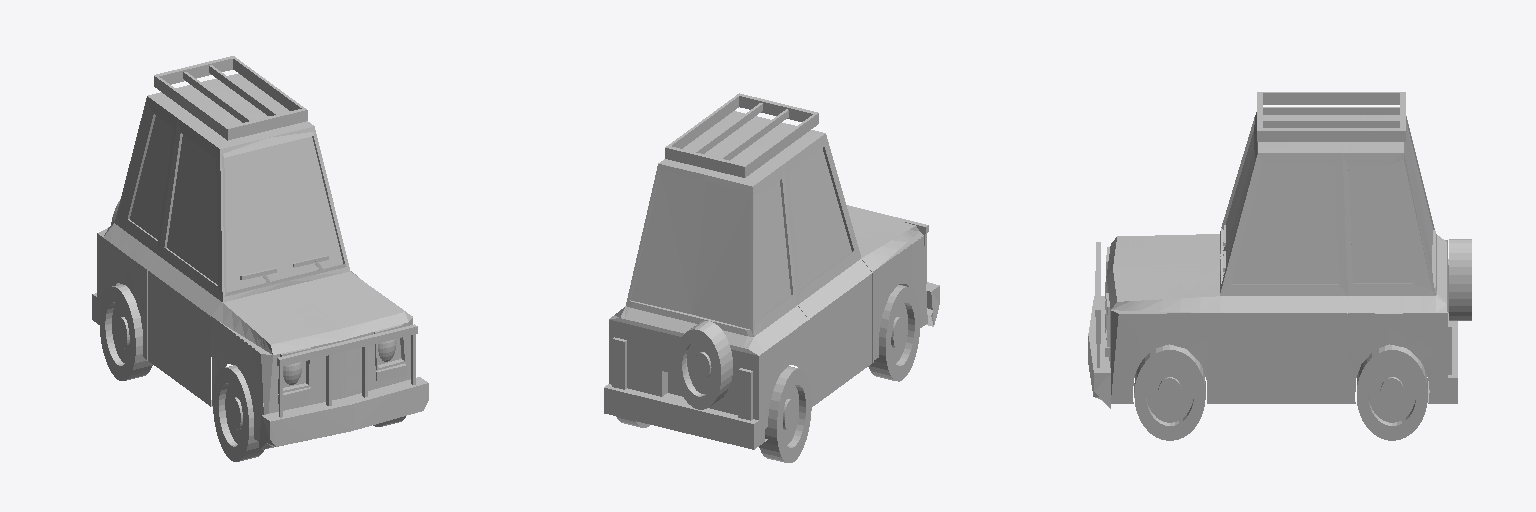
The model's file is jeepcompleto-obj.obj.
3 views of the same model, side by side, from view 1: azimuth 30°, elevation 25°; view 2: azimuth 150°, elevation 25°; view 3: azimuth 270°, elevation 25° (orthographic).
Parts seen in each view (by area): view 1: Body_Cube, FrontWindow.002_Cube.002, Cube.002_Cube.029, FrontLeftWindow_Cube.001, RoofRack.025_Cube.025, Cube.016_Cube.018, Cylinder.010_Cylinder.008, Cylinder.005_Cylinder.006, Cube.012_Cube.013, Cube.004, Cylinder.011_Cylinder.013, Cylinder.009_Cylinder.007; view 2: Body_Cube, ReawWindow.003_Cube.003, FrontLeftWindow_Cube.001, RoofRack.025_Cube.025, Cube.022_Cube.024, Cylinder.007_Cylinder.010, Cylinder.010_Cylinder.008, Cube.016_Cube.018, Cylinder.005_Cylinder.006, Cylinder.008_Cylinder.011, Cube.021_Cube.023, Cylinder.009_Cylinder.007 (+1 smaller); view 3: Body_Cube, FrontLeftWindow_Cube.001, RoofRack.025_Cube.025, Cube.016_Cube.018, Cylinder.001, Cylinder.003, Cylinder.002, Cylinder.004, Cylinder.007_Cylinder.010, Cube.002_Cube.029, ReawWindow.003_Cube.003, FrontWindow.002_Cube.002 (+1 smaller).
Boxes of the visible parts, x1,y1,x2,y2 form: Body_Cube: [97, 73, 412, 441]; FrontWindow.002_Cube.002: [224, 137, 342, 292]; Cube.002_Cube.029: [259, 377, 428, 449]; FrontLeftWindow_Cube.001: [167, 135, 217, 284]; RoofRack.025_Cube.025: [154, 56, 307, 140]; Cube.016_Cube.018: [130, 116, 173, 239]; Cylinder.010_Cylinder.008: [99, 284, 152, 380]; Cylinder.005_Cylinder.006: [213, 365, 264, 461]; Cube.012_Cube.013: [277, 324, 417, 366]; Cube.004: [278, 324, 405, 393]; Cylinder.011_Cylinder.013: [112, 303, 129, 362]; Cylinder.009_Cylinder.007: [225, 384, 242, 443]; Body_Cube: [609, 111, 927, 445]; ReawWindow.003_Cube.003: [631, 170, 750, 329]; FrontLeftWindow_Cube.001: [789, 148, 851, 288]; RoofRack.025_Cube.025: [665, 93, 818, 177]; Cube.022_Cube.024: [604, 384, 758, 449]; Cylinder.007_Cylinder.010: [675, 321, 732, 409]; Cylinder.010_Cylinder.008: [759, 366, 811, 462]; Cube.016_Cube.018: [762, 180, 790, 314]; Cylinder.005_Cylinder.006: [868, 285, 920, 381]; Cylinder.008_Cylinder.011: [688, 343, 713, 392]; Cube.021_Cube.023: [612, 361, 752, 420]; Cylinder.009_Cylinder.007: [891, 303, 907, 362]; Body_Cube: [1105, 112, 1447, 403]; FrontLeftWindow_Cube.001: [1232, 165, 1338, 283]; RoofRack.025_Cube.025: [1257, 92, 1405, 141]; Cube.016_Cube.018: [1348, 166, 1412, 282]; Cylinder.001: [1134, 344, 1205, 440]; Cylinder.003: [1357, 344, 1427, 440]; Cylinder.002: [1146, 365, 1193, 422]; Cylinder.004: [1368, 365, 1415, 422]; Cylinder.007_Cylinder.010: [1449, 239, 1471, 320]; Cube.002_Cube.029: [1088, 296, 1110, 408]; ReawWindow.003_Cube.003: [1406, 122, 1432, 278]; FrontWindow.002_Cube.002: [1223, 132, 1254, 265].
Size of the model in its own units: 3.19 by 5.34 by 6.43.